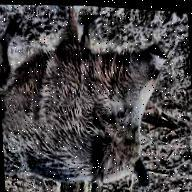boar: (2, 11, 173, 189)
